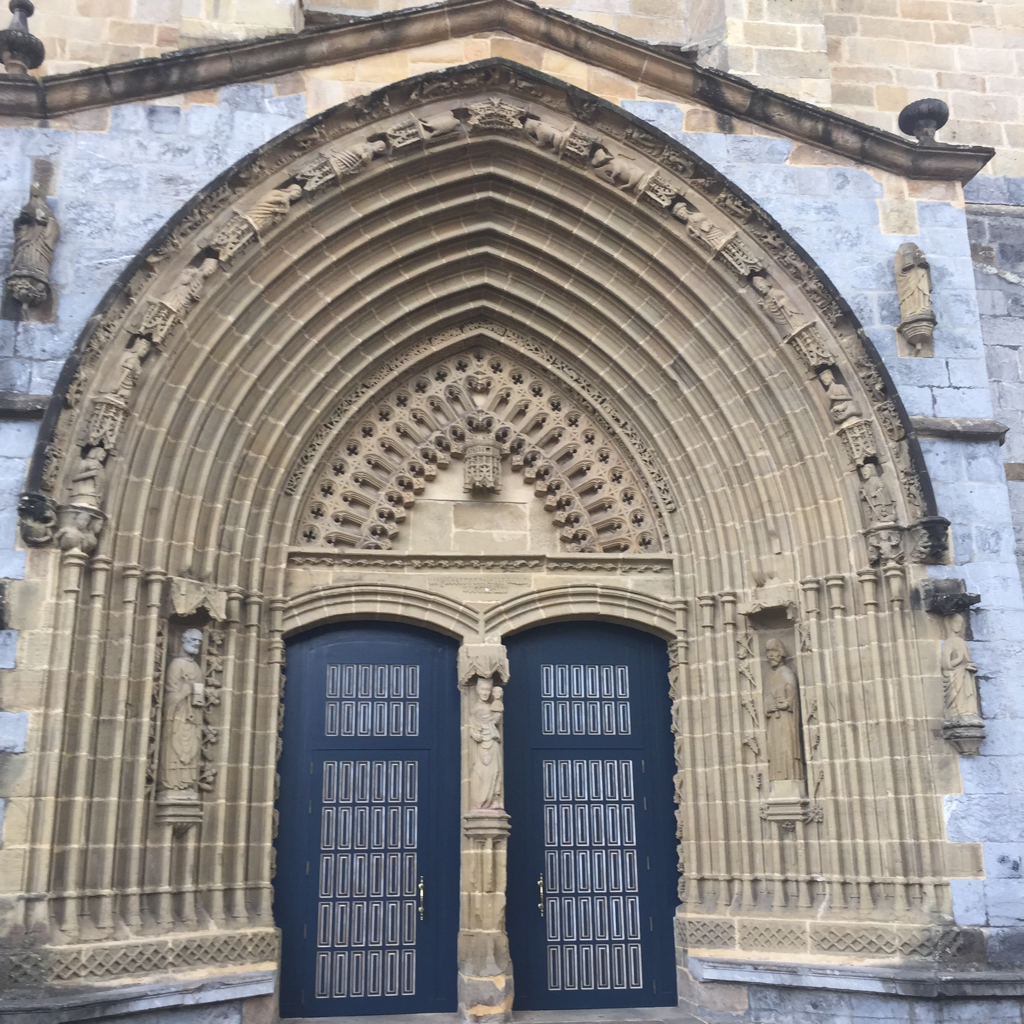arco-apuntado: (103, 131, 850, 558)
